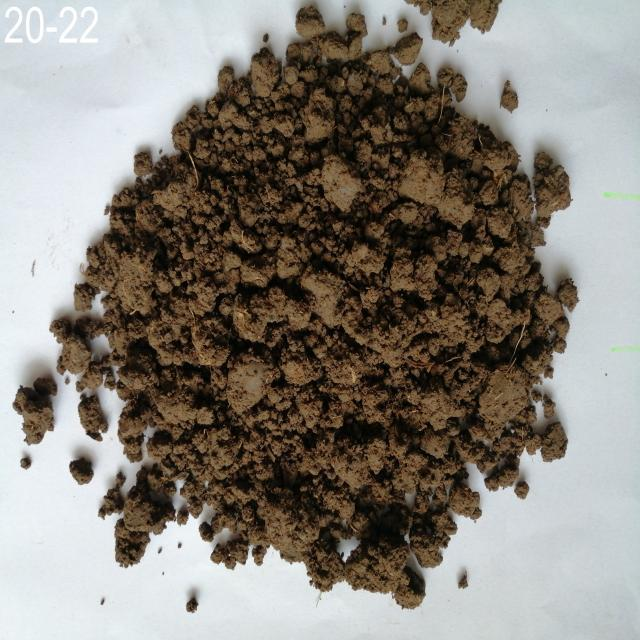soil: (188, 155, 460, 494)
